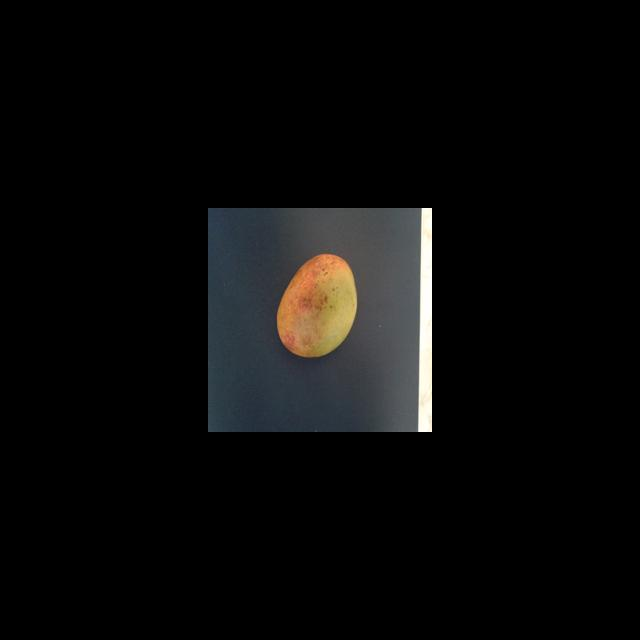Mango: (276, 252, 357, 358)
